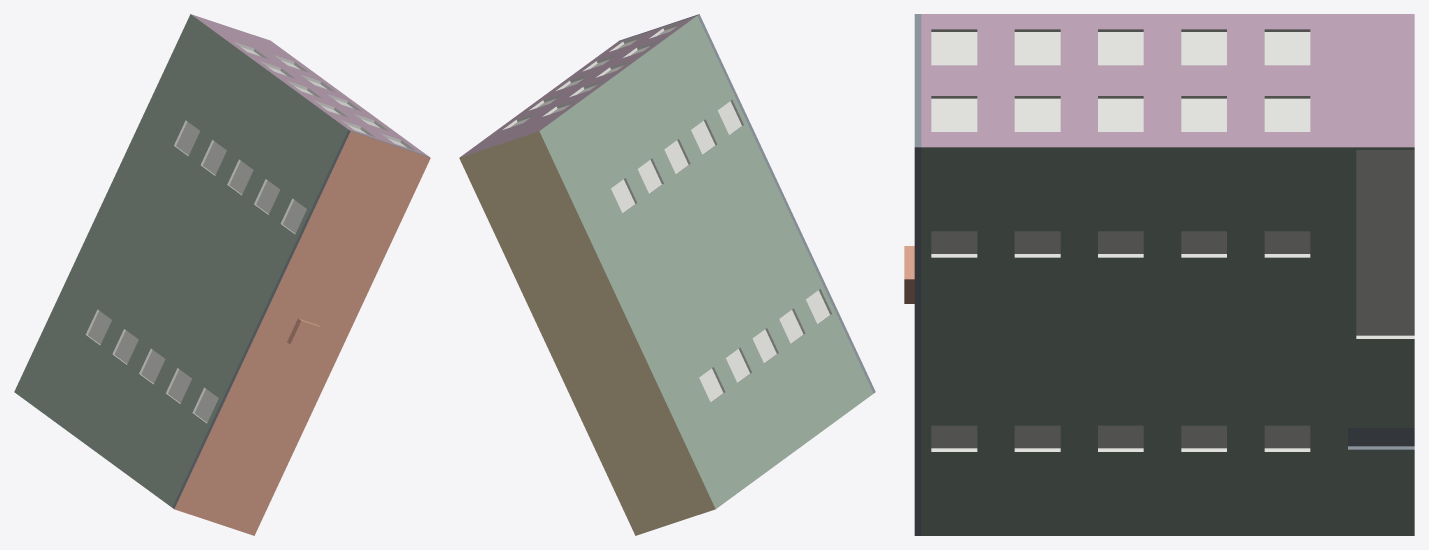
The model's file is doitt-835659__lod_0.glb.
3 renders of one model, left to right at view 1: azimuth 30°, elevation 25°; view 2: azimuth 150°, elevation 25°; view 3: azimuth 270°, elevation 25°, orthographic. The views are drawn at different scales.
Bounding box in the file's own units: 21.41 × 30.4 × 23.61.
